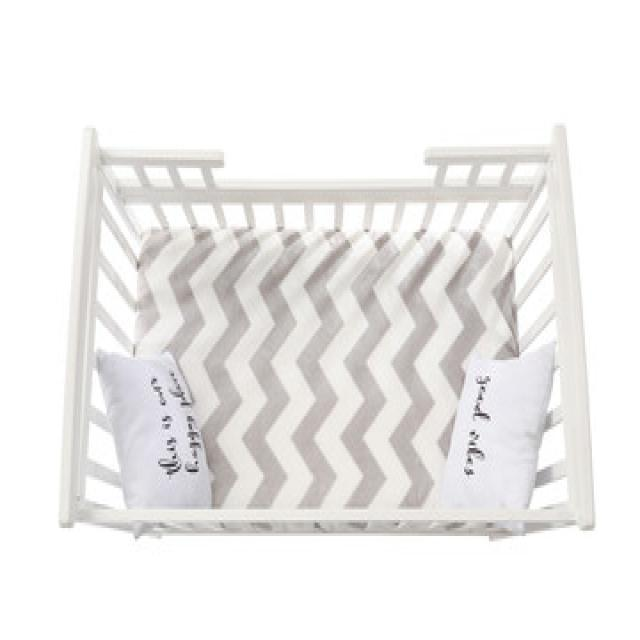crib: (57, 120, 595, 541)
